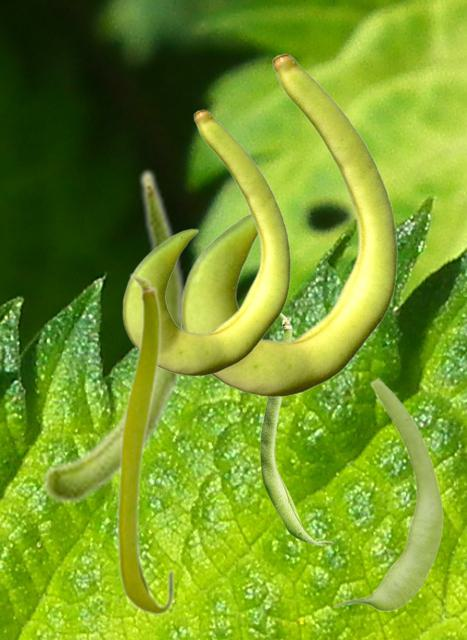french_bean: (180, 53, 397, 396), (41, 167, 186, 504), (122, 109, 290, 375), (332, 376, 443, 610), (115, 272, 174, 615), (260, 313, 333, 545)
